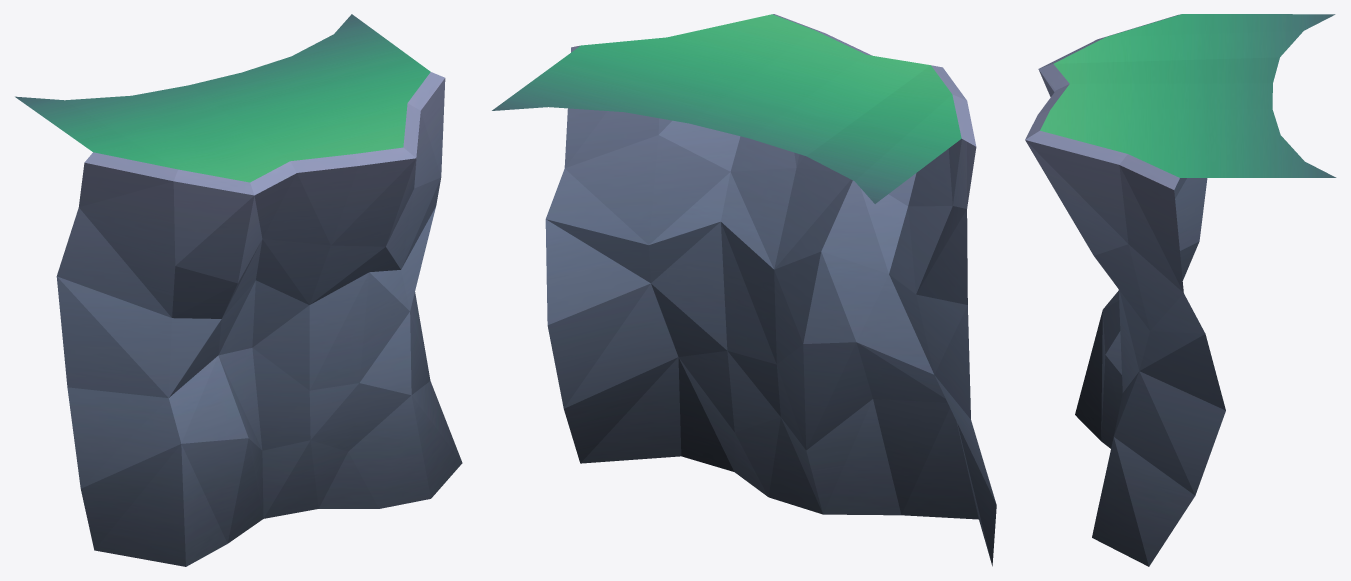
File: Cliff_Wall_1.fbx
The picture shows the model from 3 angles, left to right: view 1: azimuth 30°, elevation 25°; view 2: azimuth 150°, elevation 25°; view 3: azimuth 270°, elevation 25°; orthographic projection. The views are drawn at different scales.
Visible parts, largest first — view 1: Cliff Wall 3; view 2: Cliff Wall 3; view 3: Cliff Wall 3.
Part boxes in pixels (box(x1,y1,x2,y2)): Cliff Wall 3: box(15, 14, 462, 566); Cliff Wall 3: box(492, 14, 996, 566); Cliff Wall 3: box(1025, 14, 1336, 566).
Bounding box in the file's own units: 1002 × 979 × 724.
